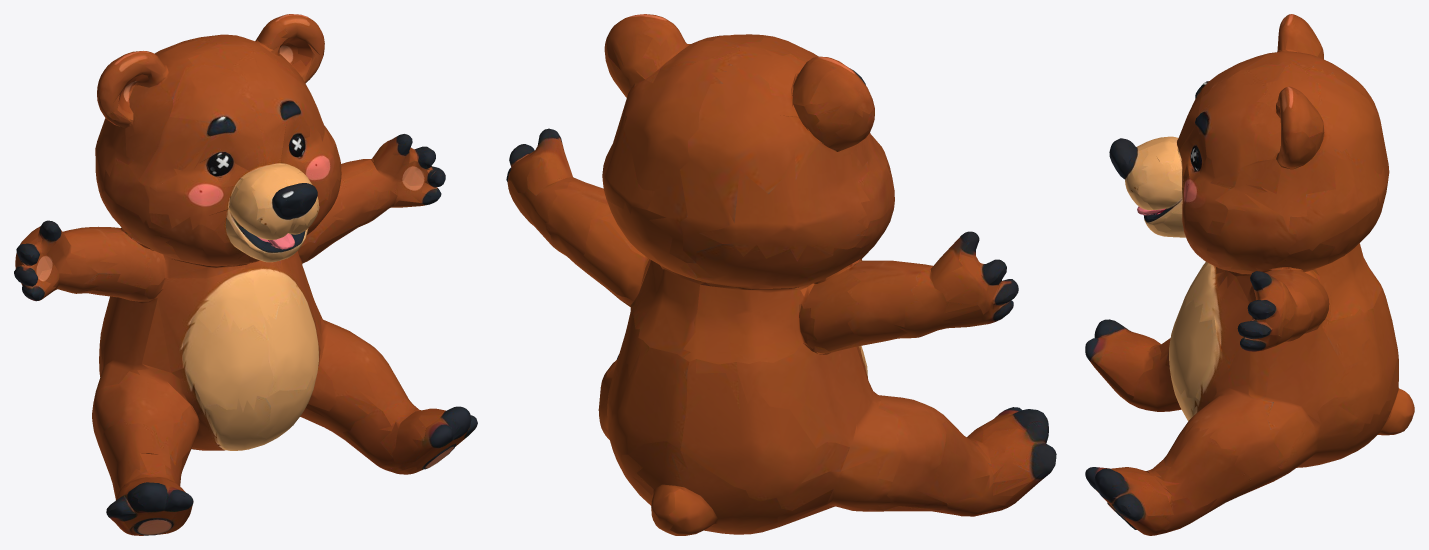
The model's file is roadkill.glb.
The picture shows the model from 3 angles, left to right: view 1: azimuth 30°, elevation 25°; view 2: azimuth 150°, elevation 25°; view 3: azimuth 270°, elevation 25°; orthographic projection. The views are drawn at different scales.
Parts seen in each view (by area): view 1: output_unwrapped; view 2: output_unwrapped; view 3: output_unwrapped.
Boxes of the visible parts, left/top/right/bottom form: output_unwrapped: left=14, top=14, right=477, bottom=535; output_unwrapped: left=506, top=14, right=1056, bottom=535; output_unwrapped: left=1085, top=14, right=1414, bottom=535.
Bounding box in the file's own units: 1.9 × 1.76 × 1.28.
1 material, 1 textured.
